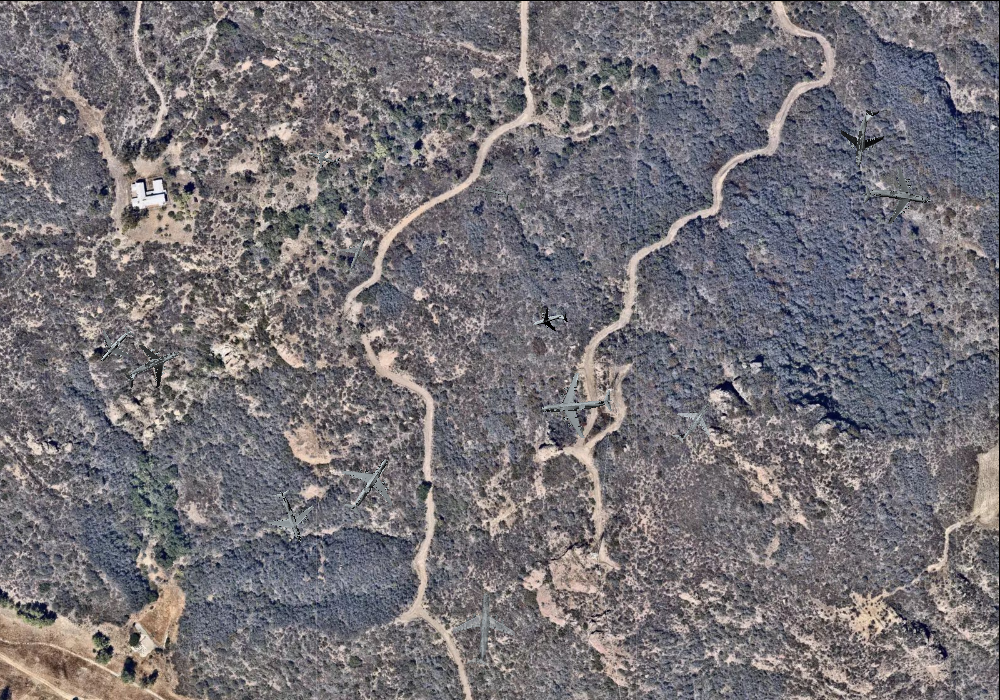plane: (326, 442, 411, 529), (444, 589, 519, 668), (537, 367, 615, 442), (858, 159, 935, 234), (114, 330, 190, 403), (256, 482, 323, 551), (660, 388, 726, 455), (834, 104, 894, 170), (86, 316, 144, 374), (333, 231, 380, 279), (528, 300, 571, 340), (471, 172, 512, 212), (304, 138, 343, 175)
